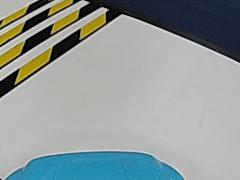bump: (5, 0, 98, 69)
